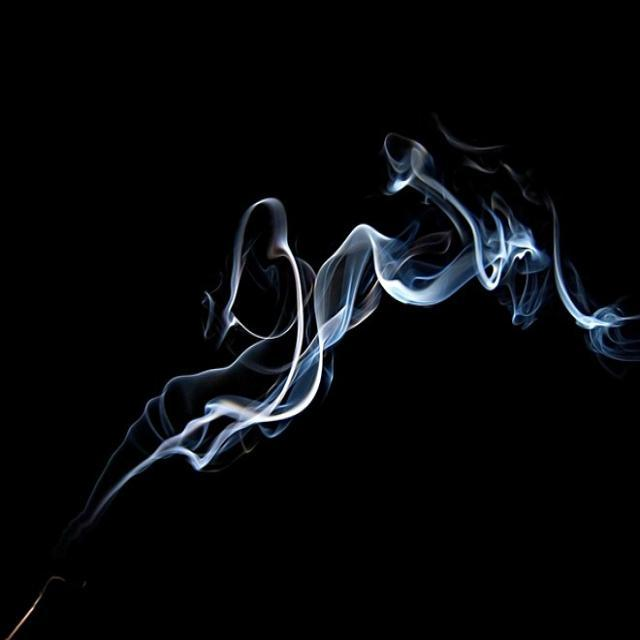Smoke: (57, 109, 640, 548)
